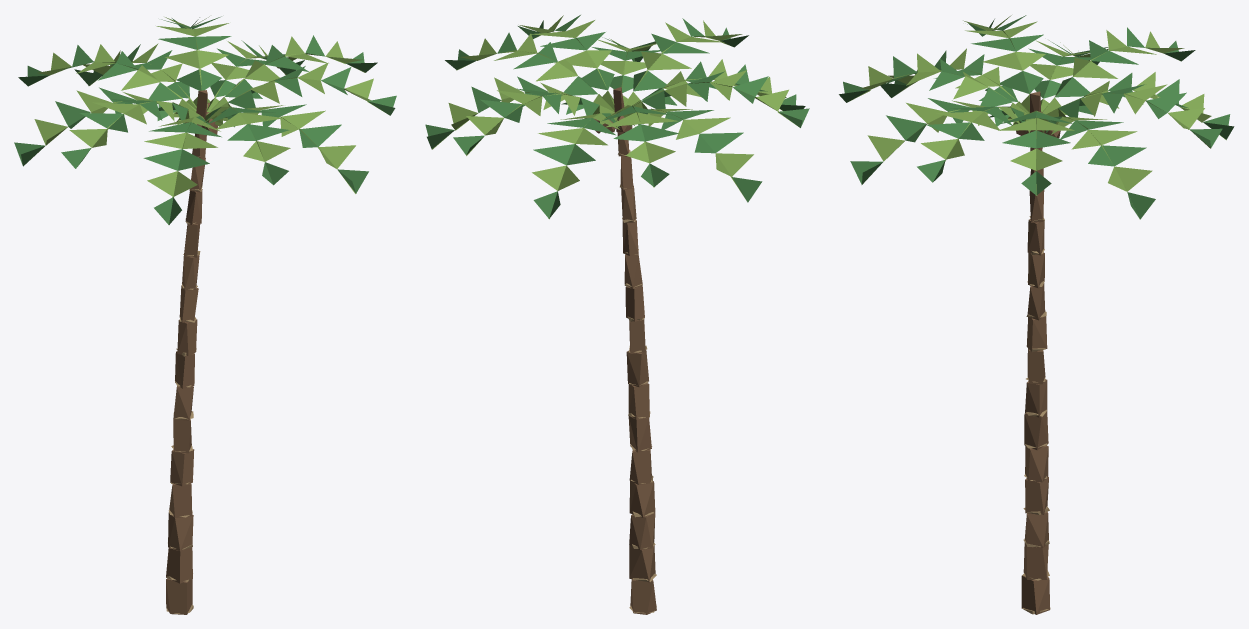
Rendered from tree_palm_low.glb.
3 views of the same model, side by side, from view 1: azimuth 30°, elevation 25°; view 2: azimuth 150°, elevation 25°; view 3: azimuth 270°, elevation 25° (orthographic). The views are drawn at different scales.
Visible parts, largest first — view 1: tree_palm.001; view 2: tree_palm.001; view 3: tree_palm.001.
Boxes of the visible parts, box(x1,y1,x2,y2) form: tree_palm.001: box(14, 16, 396, 614); tree_palm.001: box(425, 15, 809, 614); tree_palm.001: box(839, 15, 1234, 614).
Size of the model in its own units: 6.74 by 10.33 by 6.81.
